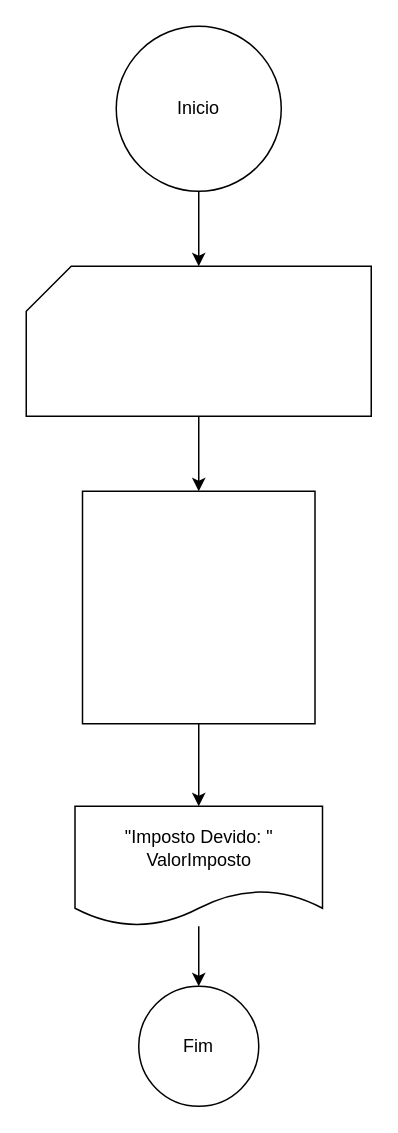
Some shapes in this 398 by 1133 pixel diagram are drawn without their labels. Each missing label, with the centre of its shape:
"Salario" belongs at [198,340].
"ValorImposto = Salario * AliquotaIR" belongs at [198,607].
